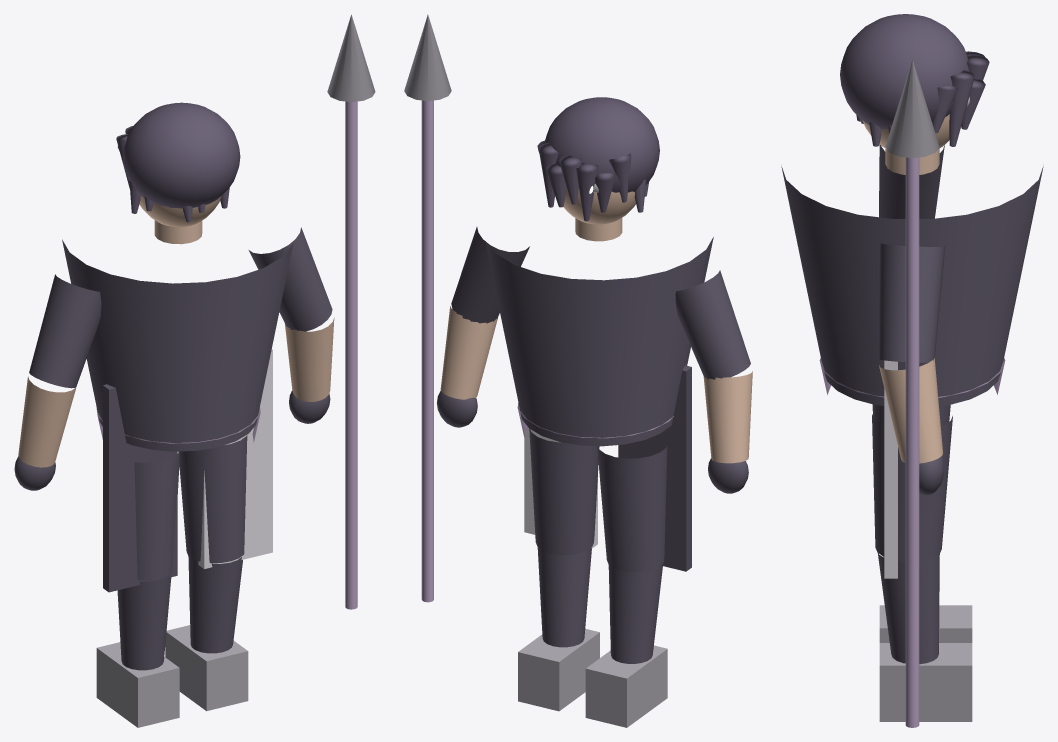
File: night-procedural-v1.glb
The picture shows the model from 3 angles, left to right: view 1: azimuth 30°, elevation 25°; view 2: azimuth 150°, elevation 25°; view 3: azimuth 270°, elevation 25°; orthographic projection. The views are drawn at different scales.
Visible parts, largest first — view 1: Outfit_Torso, Hair_Cap, Body_Thigh_R, Outfit_CoatTail_L, Weapon_SpearShaft, Body_UpperArm_L, Outfit_Boot_L, Outfit_CoatTail_R, Body_Thigh_L, Outfit_Boot_R, Body_Shin_R, Body_Shin_L (+8 smaller); view 2: Outfit_Torso, Body_Thigh_L, Body_Thigh_R, Hair_Cap, Weapon_SpearShaft, Outfit_CoatTail_L, Body_UpperArm_L, Outfit_Boot_L, Outfit_Boot_R, Body_Shin_R, Body_Shin_L, Body_Forearm_L (+12 smaller); view 3: Outfit_Torso, Hair_Cap, Weapon_SpearShaft, Outfit_Boot_R, Body_UpperArm_R, Body_Thigh_R, Body_Shin_R, Body_Forearm_R, Weapon_SpearHead, Body_UpperArm_L, Outfit_CoatTail_R, Outfit_Boot_L (+8 smaller).
Boxes of the visible parts, x1=… form: Outfit_Torso: x1=62, y1=239, x2=293, y2=451; Hair_Cap: x1=122, y1=102, x2=240, y2=208; Body_Thigh_R: x1=178, y1=435, x2=247, y2=563; Outfit_CoatTail_L: x1=103, y1=384, x2=177, y2=592; Weapon_SpearShaft: x1=345, y1=101, x2=357, y2=609; Body_UpperArm_L: x1=29, y1=274, x2=101, y2=388; Outfit_Boot_L: x1=96, y1=642, x2=179, y2=727; Outfit_CoatTail_R: x1=198, y1=349, x2=272, y2=568; Body_Thigh_L: x1=134, y1=451, x2=179, y2=580; Outfit_Boot_R: x1=165, y1=625, x2=248, y2=711; Body_Shin_R: x1=188, y1=556, x2=242, y2=653; Body_Shin_L: x1=117, y1=574, x2=171, y2=670; Outfit_Torso: x1=485, y1=237, x2=713, y2=446; Body_Thigh_L: x1=597, y1=445, x2=667, y2=571; Body_Thigh_R: x1=529, y1=428, x2=599, y2=554; Hair_Cap: x1=545, y1=97, x2=659, y2=192; Weapon_SpearShaft: x1=421, y1=100, x2=433, y2=602; Outfit_CoatTail_L: x1=618, y1=365, x2=691, y2=571; Body_UpperArm_L: x1=675, y1=270, x2=750, y2=379; Outfit_Boot_L: x1=585, y1=645, x2=667, y2=727; Outfit_Boot_R: x1=518, y1=628, x2=599, y2=711; Body_Shin_R: x1=537, y1=547, x2=591, y2=647; Body_Shin_L: x1=608, y1=564, x2=662, y2=663; Body_Forearm_L: x1=703, y1=371, x2=752, y2=463; Outfit_Torso: x1=781, y1=166, x2=1043, y2=406; Hair_Cap: x1=840, y1=14, x2=968, y2=129; Weapon_SpearShaft: x1=905, y1=157, x2=919, y2=727; Outfit_Boot_R: x1=879, y1=643, x2=972, y2=721; Body_UpperArm_R: x1=879, y1=243, x2=945, y2=362; Body_Thigh_R: x1=872, y1=414, x2=952, y2=561; Body_Shin_R: x1=877, y1=553, x2=939, y2=664; Body_Forearm_R: x1=879, y1=358, x2=942, y2=463; Weapon_SpearHead: x1=885, y1=59, x2=939, y2=158; Body_UpperArm_L: x1=879, y1=144, x2=944, y2=218; Outfit_CoatTail_R: x1=884, y1=360, x2=897, y2=578; Outfit_Boot_L: x1=879, y1=605, x2=972, y2=642.
Size of the model in its own units: 1.17 by 2.07 by 0.68.
